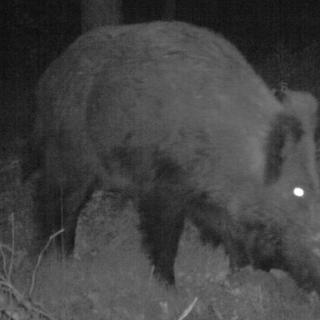Pig: (36, 9, 320, 298)
